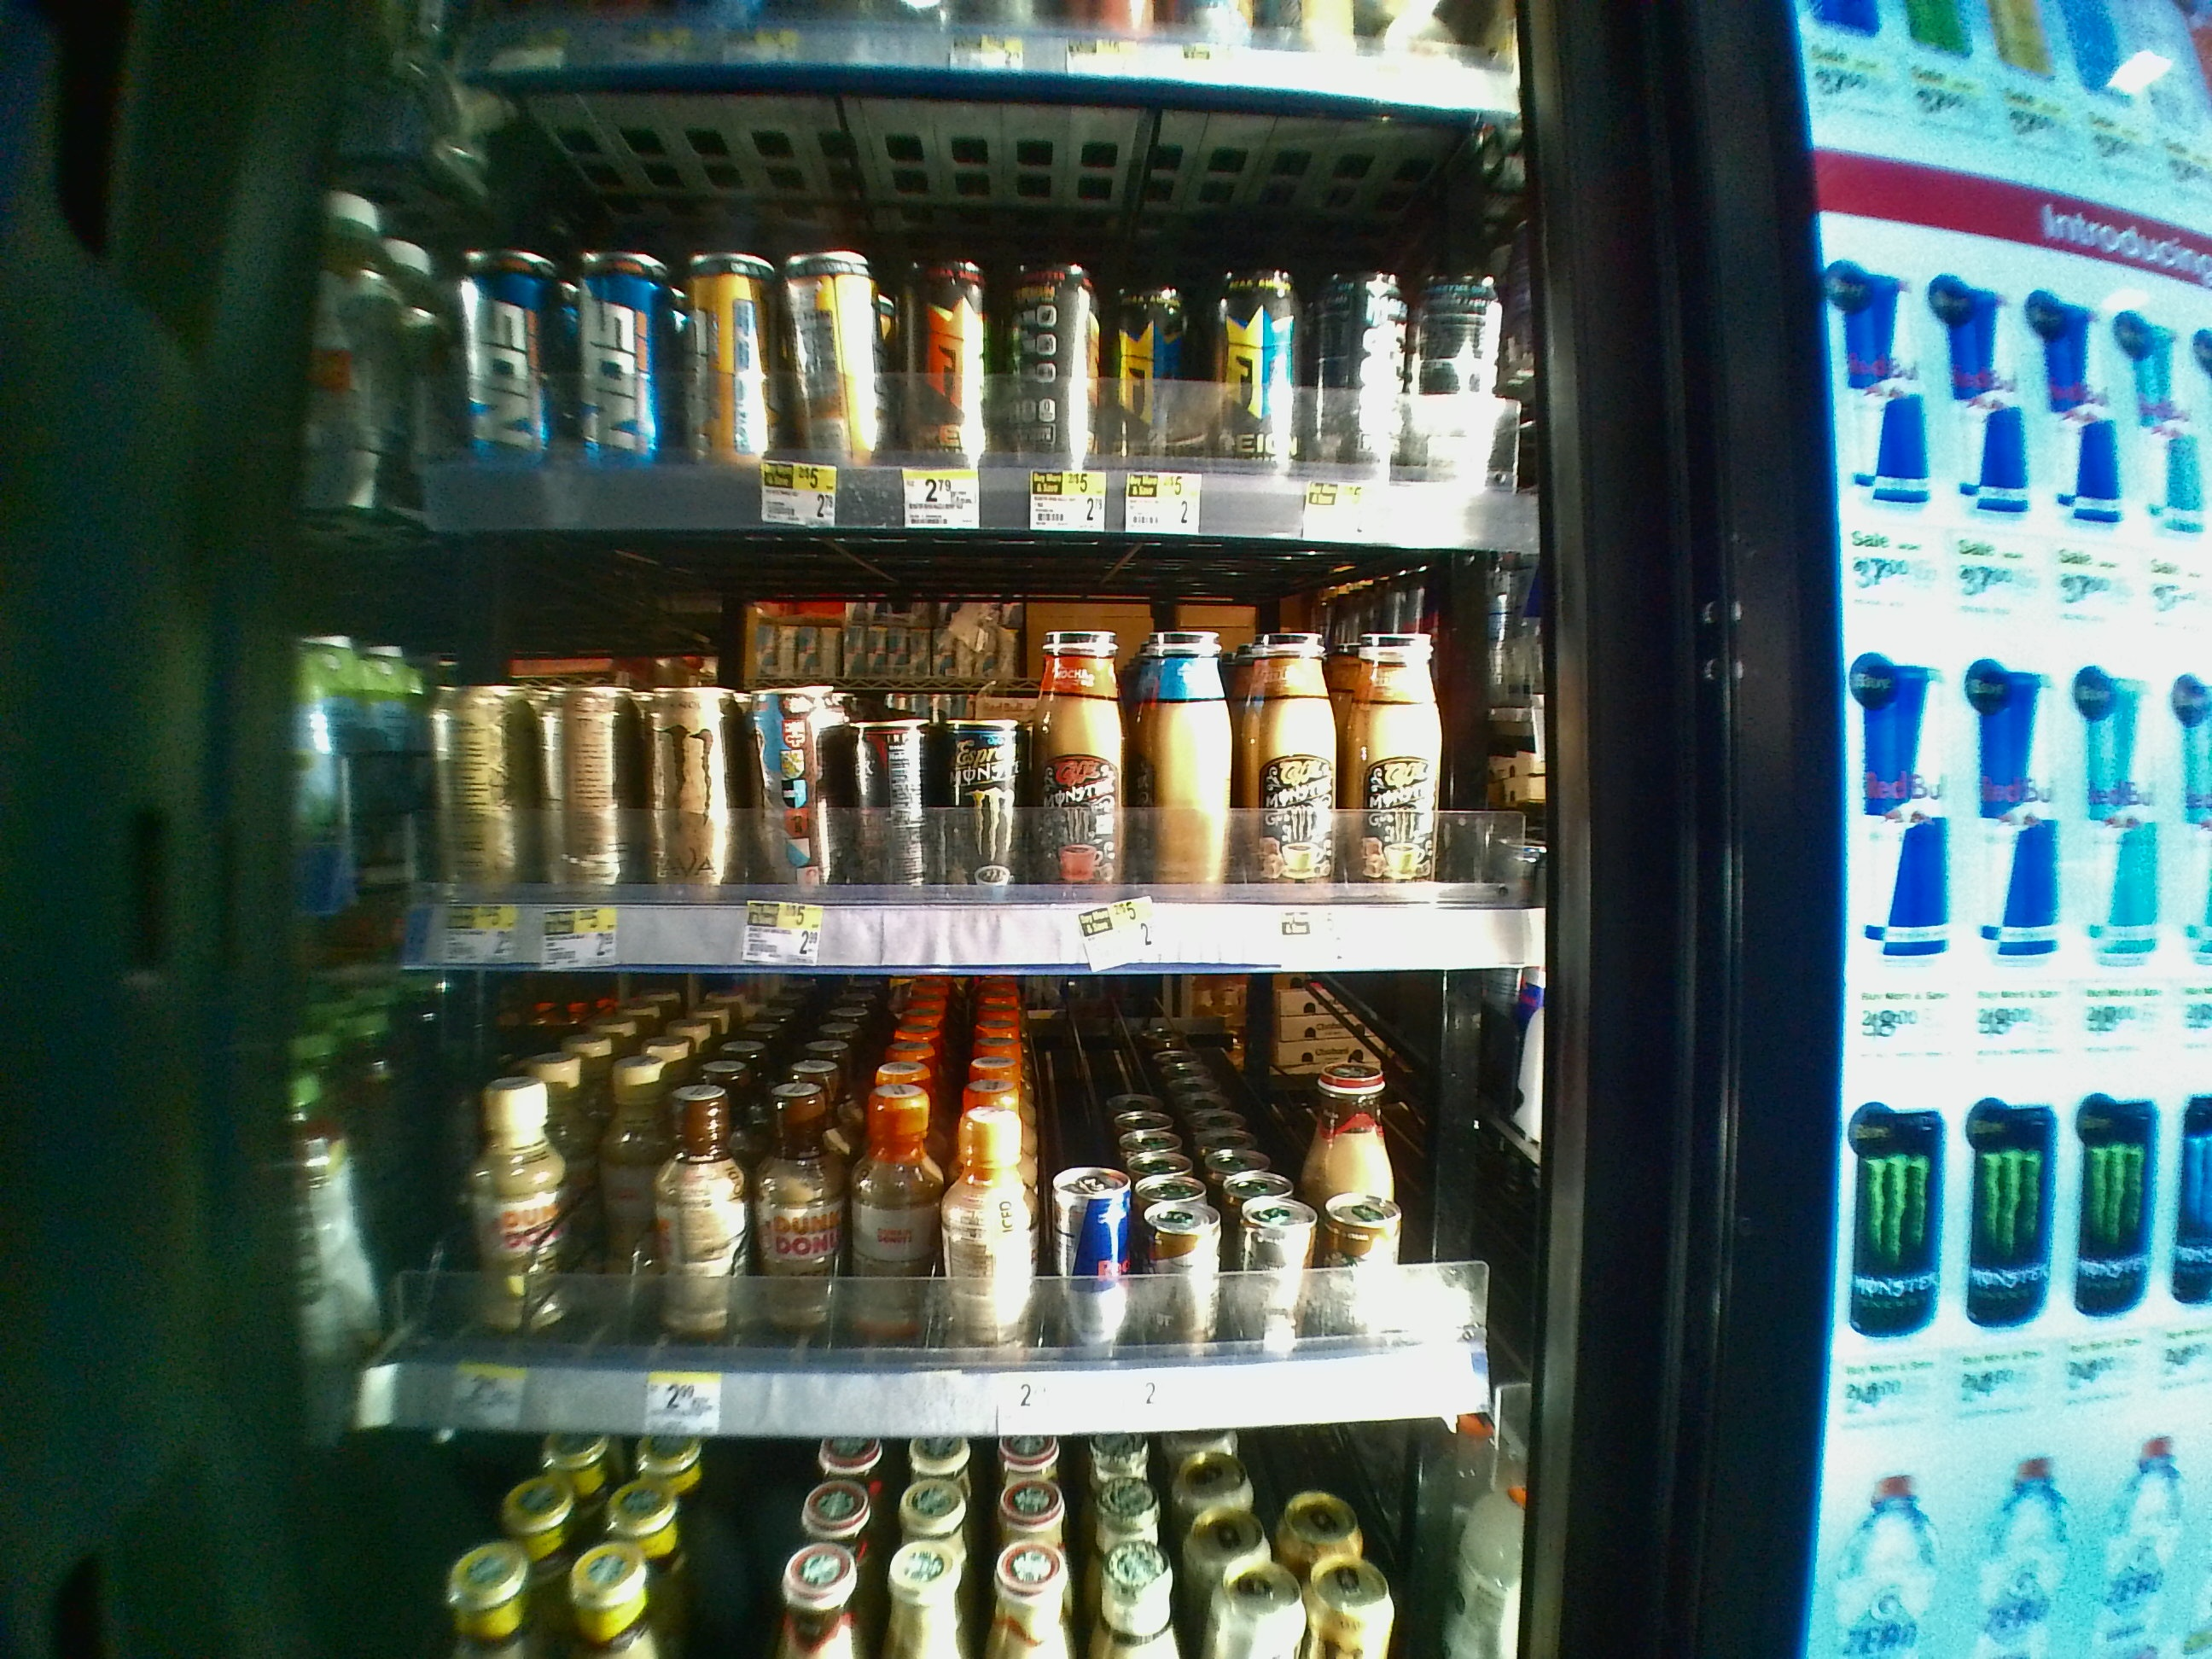shelf: (272, 964, 1571, 1436), (284, 532, 1576, 972)
